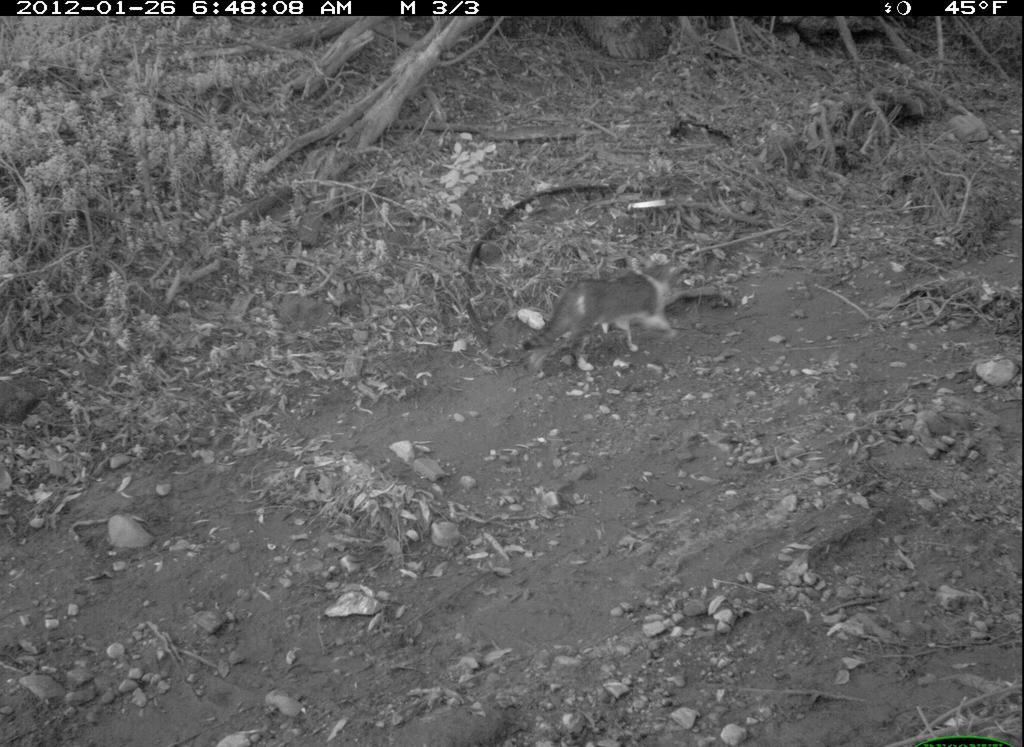cat: (521, 255, 696, 374)
